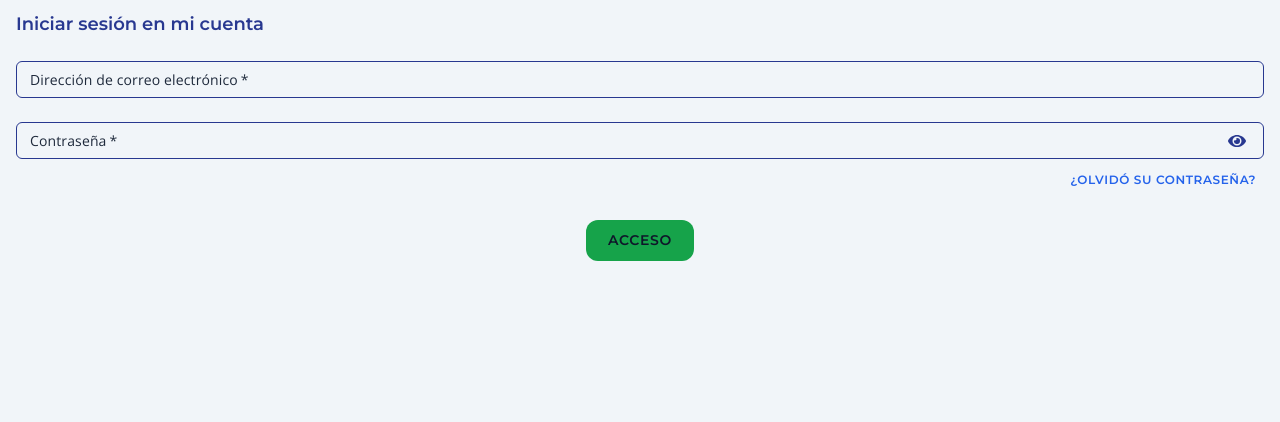
it: Login — cuando falla, lo dice en castellano › con auth/wrong-password muestra: Contraseña incorrecta
Type "aida@ferrequipos.com" into the field labelled "Dirección de correo electrónico *".
click(640, 80); type("aida@ferrequipos.com")  # box [16,61,1264,98]
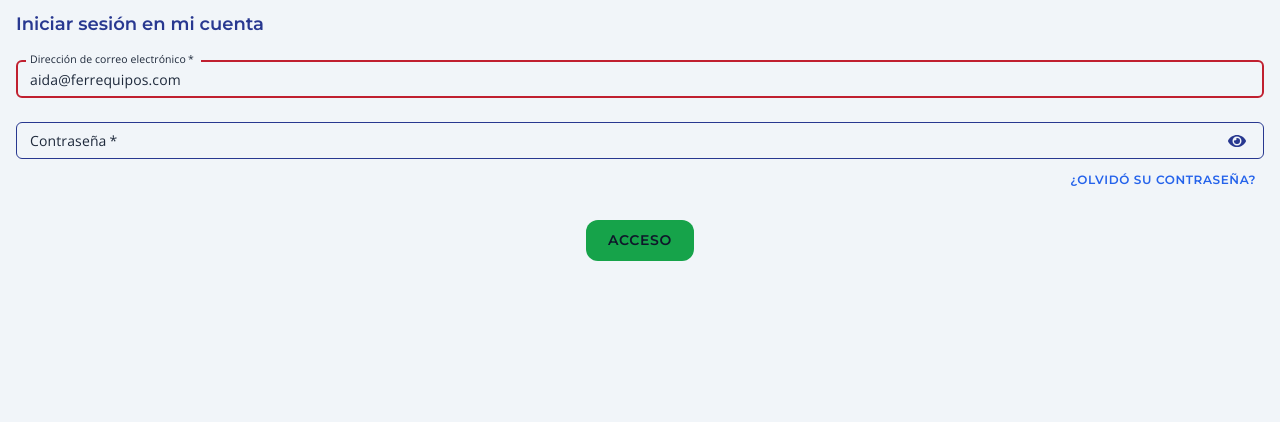
Type "secreta123" into the password field labelled "Contraseña *".
click(620, 141); type("secreta123")  # box [16,122,1224,159]
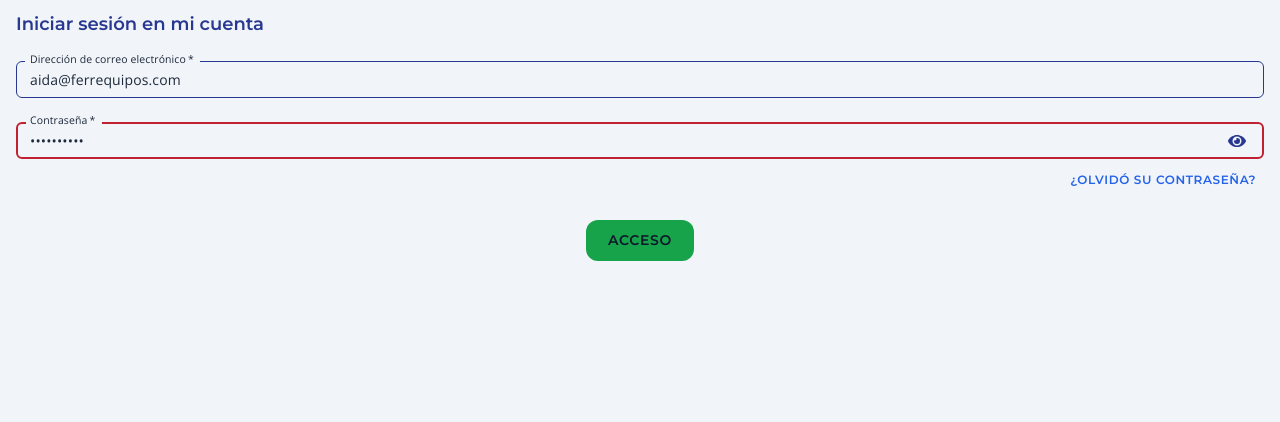
Click the button "ACCESO".
click(640, 240)  # box [586,220,694,261]
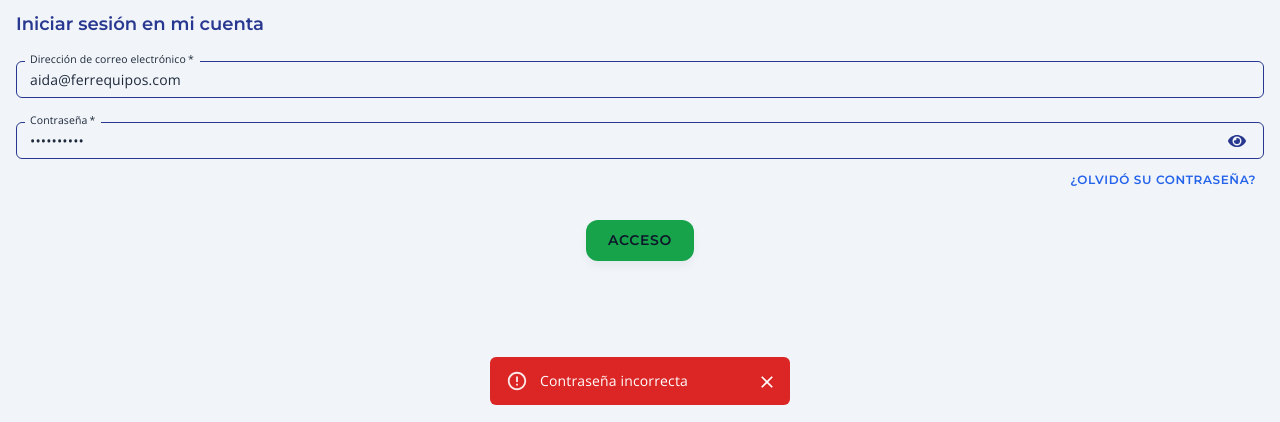
Expected: the text "Contraseña incorrecta" is shown, [540,371,688,390]
